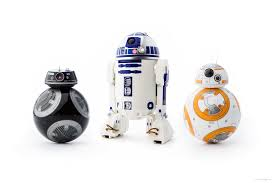r2d2: (100, 32, 173, 144)
